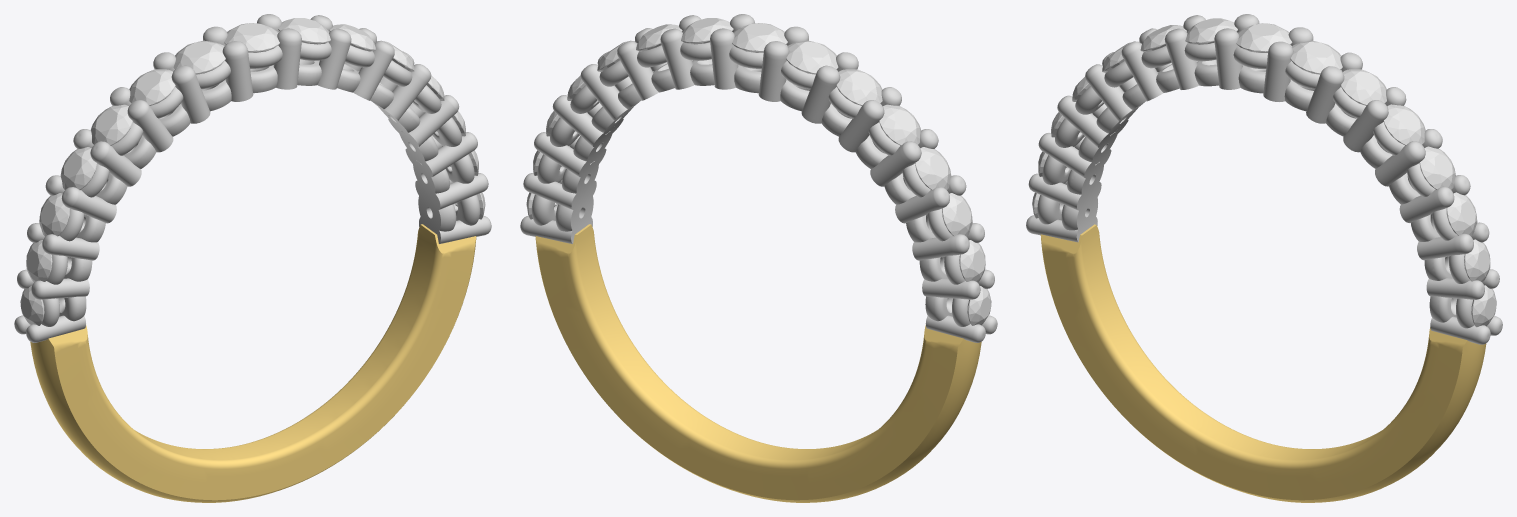
The model's file is DerrickWBhers_blender.glb.
3 renders of one model, left to right at view 1: azimuth 30°, elevation 25°; view 2: azimuth 150°, elevation 25°; view 3: azimuth 330°, elevation 25°, orthographic.
Parts seen in each view (by area): view 1: Derrick PT for 3d model, Derrick YG for 3d model, Derrick dia for 3d model.008, Derrick dia for 3d model.010, Derrick dia for 3d model.009, Derrick dia for 3d model.007, Derrick dia for 3d model.011, Derrick dia for 3d model.012, Derrick dia for 3d model.006, Derrick dia for 3d model.013, Derrick dia for 3d model.014, Derrick dia for 3d model.005; view 2: Derrick PT for 3d model, Derrick YG for 3d model, Derrick dia for 3d model.008, Derrick dia for 3d model.010, Derrick dia for 3d model.009, Derrick dia for 3d model.007, Derrick dia for 3d model.011, Derrick dia for 3d model.012, Derrick dia for 3d model.006, Derrick dia for 3d model.013, Derrick dia for 3d model.014, Derrick dia for 3d model.005; view 3: Derrick PT for 3d model, Derrick YG for 3d model, Derrick dia for 3d model.006, Derrick dia for 3d model.004, Derrick dia for 3d model.005, Derrick dia for 3d model.007, Derrick dia for 3d model.003, Derrick dia for 3d model.002, Derrick dia for 3d model.008, Derrick dia for 3d model.001, Derrick dia for 3d model, Derrick dia for 3d model.009.
Boxes of the visible parts, x1,y1,x2,y2 form: Derrick PT for 3d model: (14, 14, 491, 342); Derrick YG for 3d model: (30, 224, 476, 502); Derrick dia for 3d model.008: (173, 40, 225, 74); Derrick dia for 3d model.010: (90, 104, 132, 145); Derrick dia for 3d model.009: (129, 69, 175, 105); Derrick dia for 3d model.007: (224, 23, 279, 52); Derrick dia for 3d model.011: (60, 147, 96, 189); Derrick dia for 3d model.012: (39, 193, 69, 236); Derrick dia for 3d model.006: (278, 18, 330, 44); Derrick dia for 3d model.013: (26, 240, 52, 282); Derrick dia for 3d model.014: (20, 286, 44, 325); Derrick dia for 3d model.005: (329, 24, 375, 51); Derrick PT for 3d model: (520, 14, 997, 342); Derrick YG for 3d model: (535, 224, 981, 502); Derrick dia for 3d model.008: (786, 40, 838, 74); Derrick dia for 3d model.010: (879, 104, 921, 145); Derrick dia for 3d model.009: (836, 69, 882, 105); Derrick dia for 3d model.007: (732, 23, 787, 52); Derrick dia for 3d model.011: (915, 147, 951, 189); Derrick dia for 3d model.012: (942, 193, 972, 236); Derrick dia for 3d model.006: (681, 18, 733, 44); Derrick dia for 3d model.013: (959, 240, 985, 282); Derrick dia for 3d model.014: (967, 286, 991, 325); Derrick dia for 3d model.005: (636, 24, 682, 51); Derrick PT for 3d model: (1026, 14, 1502, 344); Derrick YG for 3d model: (1040, 224, 1486, 502); Derrick dia for 3d model.006: (1290, 40, 1342, 74); Derrick dia for 3d model.004: (1383, 104, 1425, 145); Derrick dia for 3d model.005: (1340, 69, 1386, 105); Derrick dia for 3d model.007: (1236, 23, 1292, 52); Derrick dia for 3d model.003: (1419, 146, 1455, 189); Derrick dia for 3d model.002: (1446, 192, 1477, 236); Derrick dia for 3d model.008: (1185, 18, 1237, 44); Derrick dia for 3d model.001: (1464, 239, 1490, 282); Derrick dia for 3d model: (1471, 285, 1496, 327); Derrick dia for 3d model.009: (1140, 25, 1187, 52).
Bounding box in the file's own units: 22.56 × 21.77 × 2.83.
